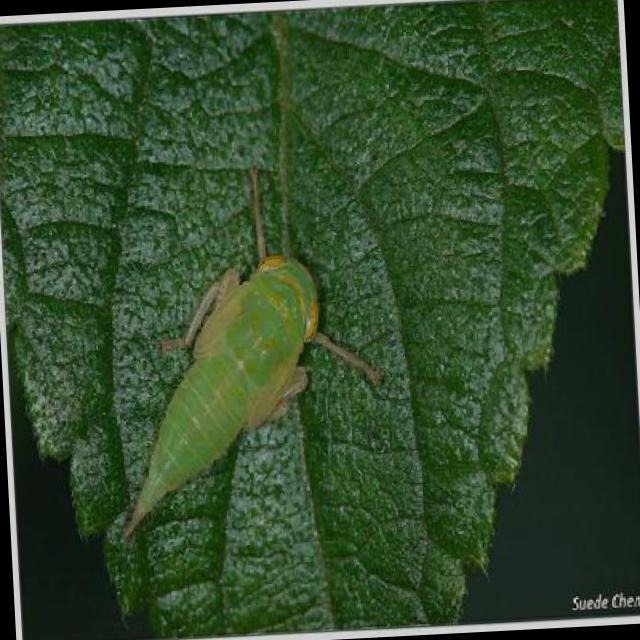green-leafhopper: (111, 240, 338, 540)
